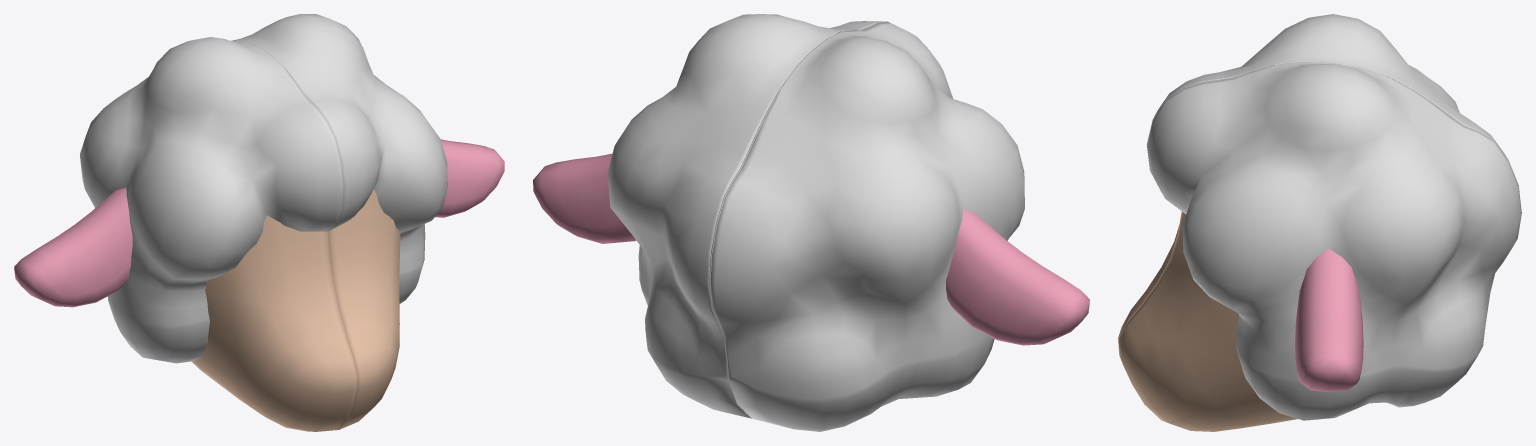
File: SM_Sheep_01b.fbx
The picture shows the model from 3 angles, left to right: view 1: azimuth 30°, elevation 25°; view 2: azimuth 150°, elevation 25°; view 3: azimuth 270°, elevation 25°; orthographic projection. The views are drawn at different scales.
Visible parts, largest first — view 1: Sheep_02, Sheep_01; view 2: Sheep_02, Sheep_01; view 3: Sheep_01, Sheep_02.
Part boxes in pixels (x1=…): Sheep_02: x1=14, y1=37, x2=357, y2=431; Sheep_01: x1=234, y1=14, x2=504, y2=429; Sheep_02: x1=709, y1=21, x2=1089, y2=431; Sheep_01: x1=533, y1=14, x2=889, y2=418; Sheep_01: x1=1118, y1=62, x2=1521, y2=431; Sheep_02: x1=1118, y1=14, x2=1521, y2=337.
Size of the model in its own units: 42.2 by 29.23 by 28.49.
